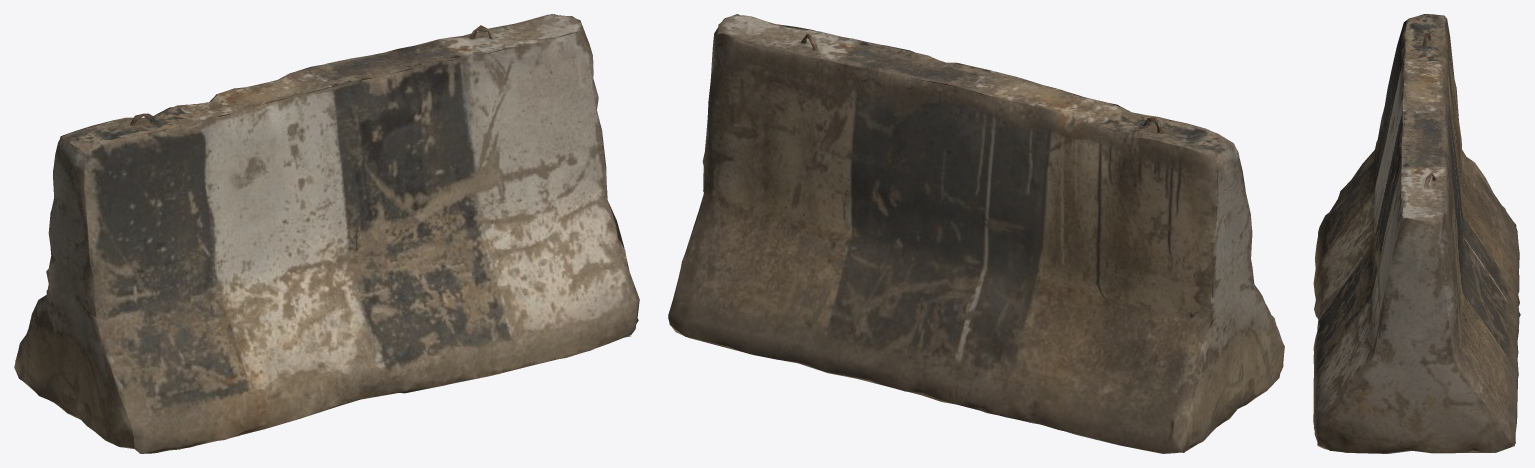
File: concrete_road_barrier.glb
The picture shows the model from 3 angles, left to right: view 1: azimuth 30°, elevation 25°; view 2: azimuth 150°, elevation 25°; view 3: azimuth 270°, elevation 25°; orthographic projection. The views are drawn at different scales.
Visible parts, largest first — view 1: CC0_concrete_road_barrier; view 2: CC0_concrete_road_barrier; view 3: CC0_concrete_road_barrier.
Boxes of the visible parts, x1,y1,x2,y2 form: CC0_concrete_road_barrier: [14, 14, 639, 453]; CC0_concrete_road_barrier: [668, 14, 1284, 453]; CC0_concrete_road_barrier: [1313, 14, 1520, 453].
Size of the model in its own units: 1.54 by 0.8347 by 0.6361.
1 material, 1 textured.
